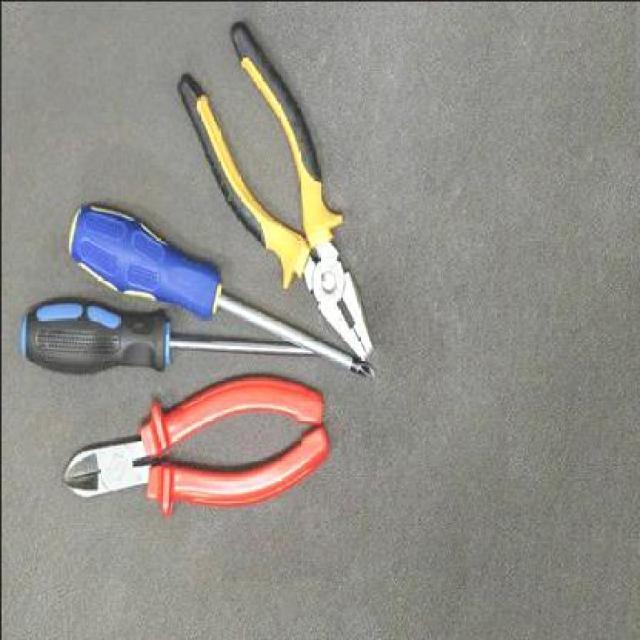pliers: (172, 10, 370, 358)
